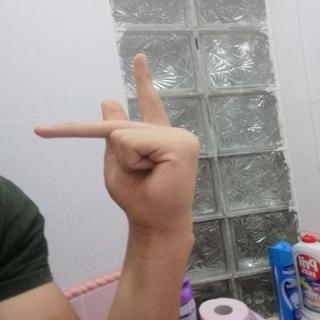DHAA: (19, 44, 212, 236)
